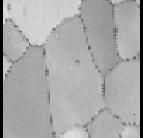good_void: (74, 57, 80, 62)
